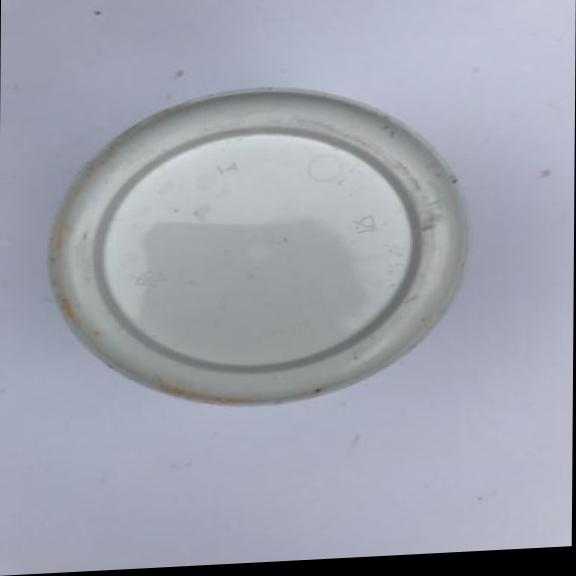Plastik: (36, 64, 481, 430)
